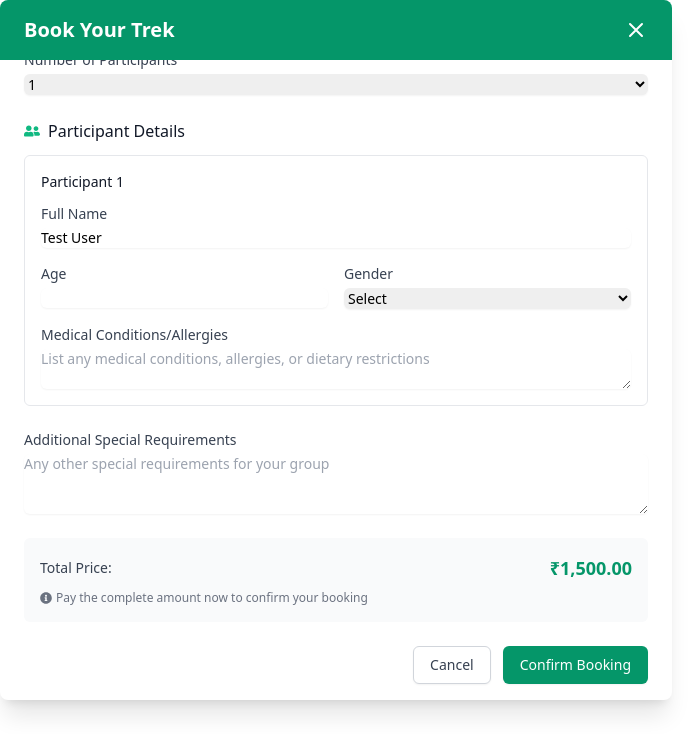
Test: BookingForm Component › validates form before submission
(page scrolled)
# Submit without filling required fields
Click the button "Confirm Booking" at (575, 665), box [503,646,648,684]
(page scrolled)
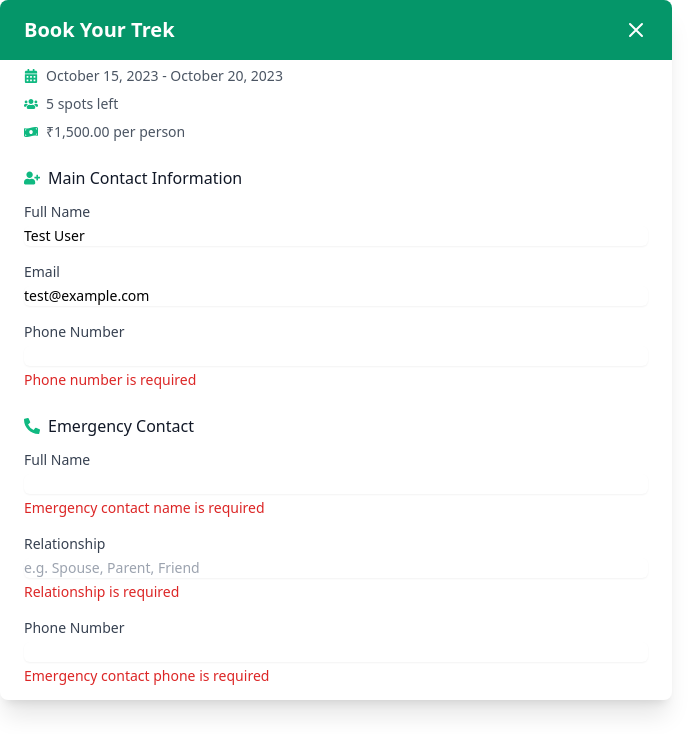
Expected: the text "Phone number is required" is shown, [24,370,196,389]
